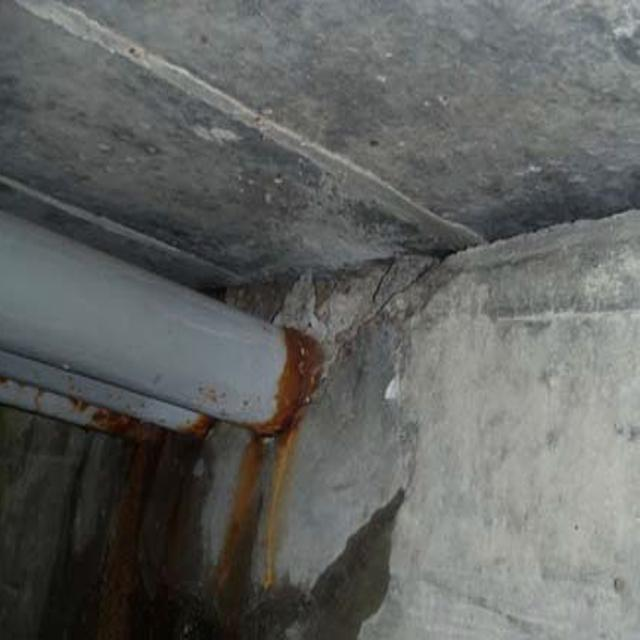corrosion: (61, 323, 332, 456)
